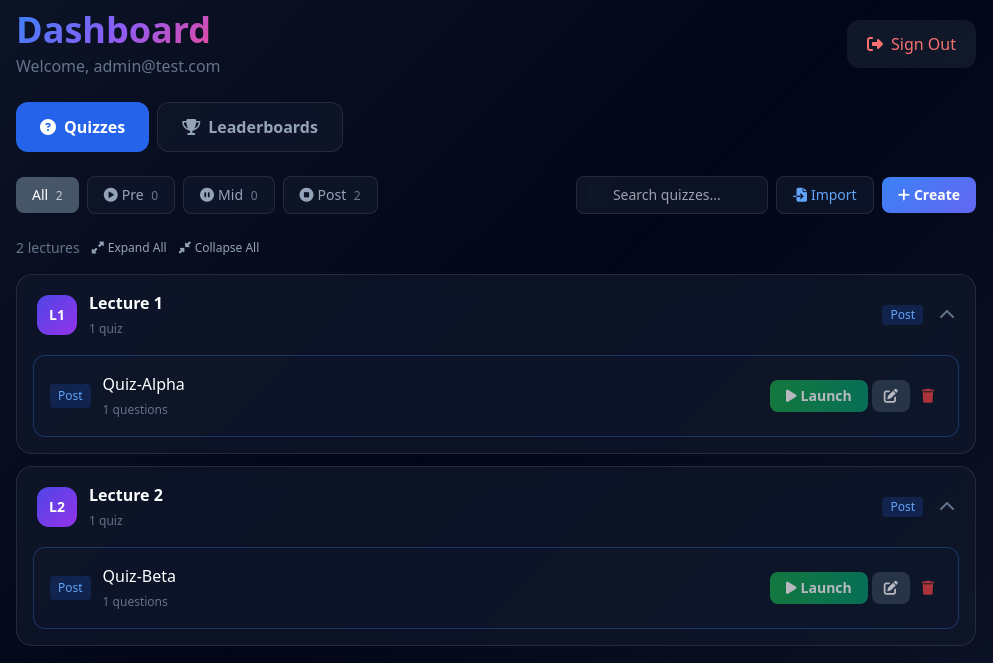
Test: DashboardPage — Collapse All › auto-expands on load, then Collapse All collapses and stays collapsed
Expected: the text "Quiz-Alpha" is shown, [103,372,185,396]
Expected: the text "Quiz-Beta" is shown, [103,564,176,588]
What coordinates should you click on to do the following:
click the button "Collapse All"
I would click on:
 (219, 248)
Its box is [179,240,259,256].
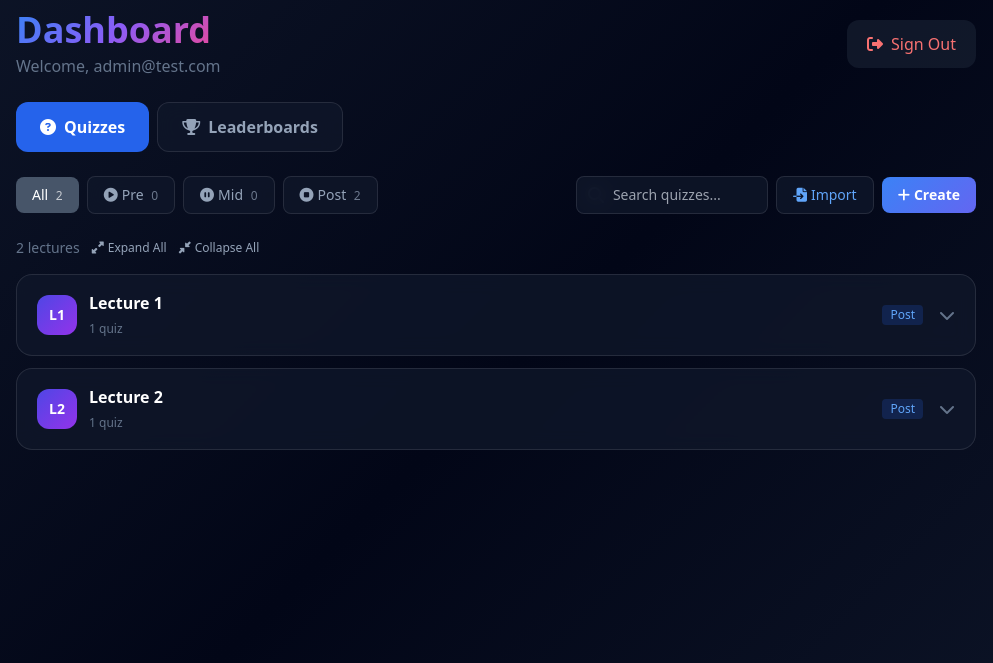
Now the text "Quiz-Alpha" is gone
Now the text "Quiz-Beta" is gone
